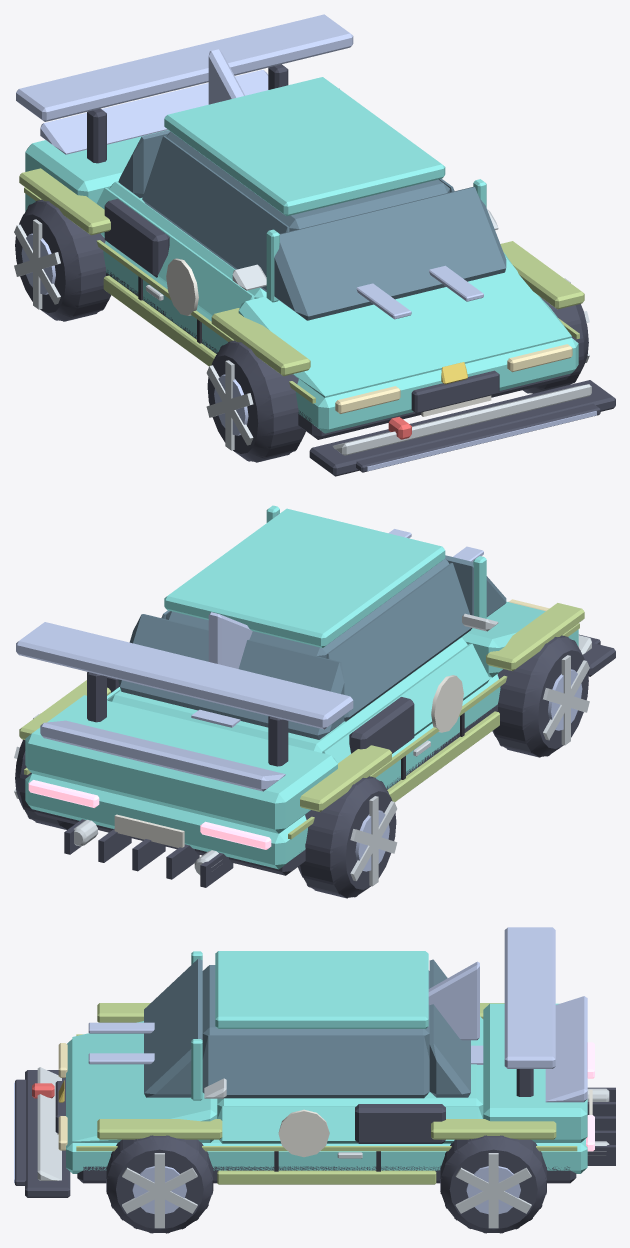
Rendered from tracknova.fbx.
3 renders of one model, top to bottom at view 1: azimuth 30°, elevation 25°; view 2: azimuth 150°, elevation 25°; view 3: azimuth 270°, elevation 25°, orthographic. The views are drawn at different scales.
Visible parts, largest first — view 1: Body, Glass, Accent2, Trim, Accent, Wheel_FR, Wheel_RR, Accent4, Metal, Light, Light2, Accent3 (+2 smaller); view 2: Body, Glass, Accent2, Trim, Accent, Wheel_RR, Wheel_FR, Metal, Accent3, Light3, Metal2, Wheel_RL (+2 smaller); view 3: Body, Glass, Accent2, Trim, Accent, Wheel_FL, Wheel_RL, Metal, Accent4, Accent3, Light, Metal2 (+2 smaller).
Boxes of the visible parts, x1,y1,x2,y2 form: Body: [25, 77, 578, 433]; Glass: [118, 88, 506, 320]; Accent2: [16, 14, 353, 154]; Trim: [87, 64, 615, 476]; Accent: [19, 168, 584, 403]; Wheel_FR: [207, 340, 305, 462]; Wheel_RR: [15, 199, 111, 321]; Accent4: [232, 209, 591, 455]; Metal: [14, 219, 589, 450]; Light: [356, 265, 596, 471]; Light2: [335, 344, 572, 413]; Accent3: [166, 258, 491, 416]; Body: [25, 505, 578, 869]; Glass: [118, 514, 506, 739]; Accent2: [16, 612, 353, 791]; Trim: [32, 634, 615, 887]; Accent: [19, 603, 584, 839]; Wheel_RR: [298, 776, 396, 898]; Wheel_FR: [492, 635, 588, 757]; Metal: [14, 655, 589, 886]; Accent3: [114, 675, 463, 847]; Light3: [28, 780, 271, 849]; Metal2: [355, 669, 582, 871]; Wheel_RL: [15, 739, 74, 829]; Body: [66, 951, 587, 1173]; Glass: [144, 959, 470, 1098]; Accent2: [428, 927, 587, 1102]; Trim: [15, 1069, 615, 1197]; Accent: [76, 1003, 577, 1184]; Wheel_FL: [106, 1135, 213, 1233]; Wheel_RL: [440, 1135, 546, 1233]; Metal: [122, 1088, 609, 1228]; Accent4: [37, 1067, 226, 1180]; Accent3: [57, 1089, 592, 1157]; Light: [14, 1022, 483, 1183]; Metal2: [132, 1166, 520, 1214].
Bounding box in the file's own units: 3 × 1.99 × 5.31.
